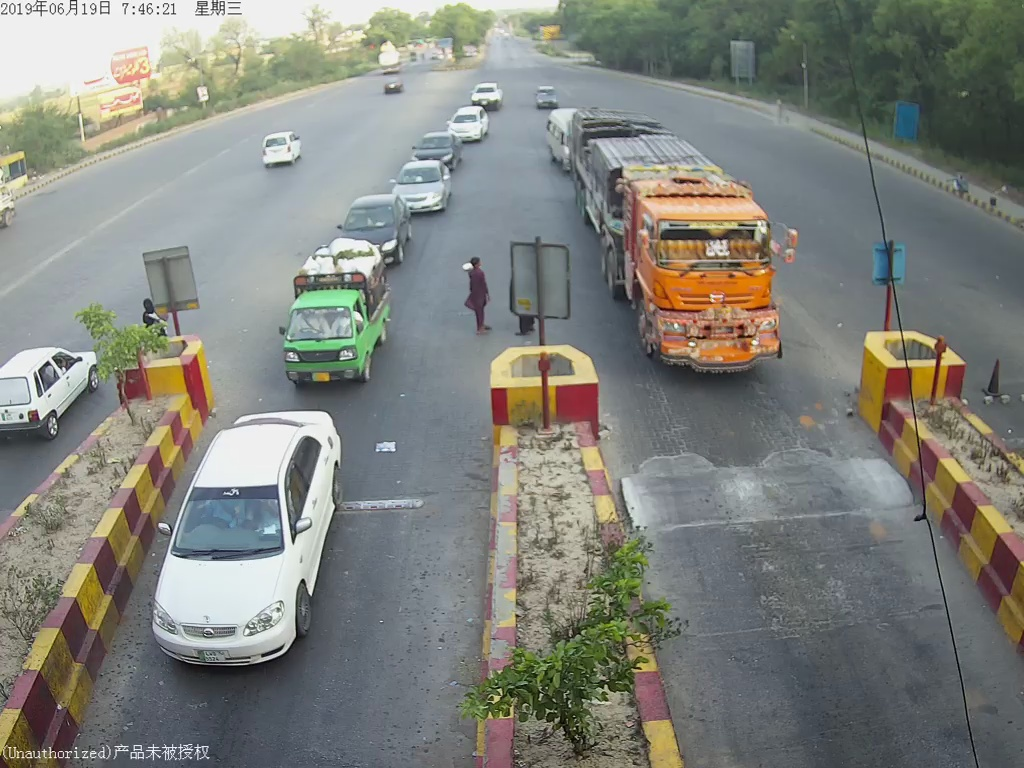Cat-1: (160, 412, 341, 666), (282, 242, 402, 392), (339, 192, 407, 247)
Cat-5: (578, 112, 806, 381)
